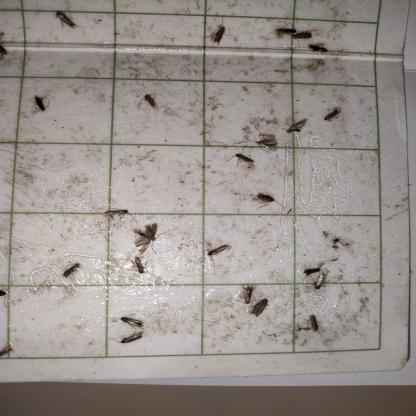prays_oleae: (55, 254, 87, 288), (134, 218, 160, 257), (28, 85, 52, 125), (212, 8, 228, 64), (137, 84, 164, 117), (257, 125, 282, 159), (207, 233, 233, 265), (286, 111, 311, 143), (55, 6, 79, 36), (118, 327, 146, 352), (323, 102, 347, 131), (129, 250, 148, 286), (240, 274, 259, 310), (99, 205, 131, 226), (253, 186, 277, 214), (291, 23, 316, 48), (234, 145, 254, 176), (274, 18, 297, 44), (300, 257, 322, 283), (252, 294, 270, 325), (0, 332, 17, 360), (314, 266, 328, 300), (120, 308, 146, 326), (304, 310, 321, 336), (1, 30, 12, 70), (308, 36, 330, 55), (0, 275, 13, 304)
